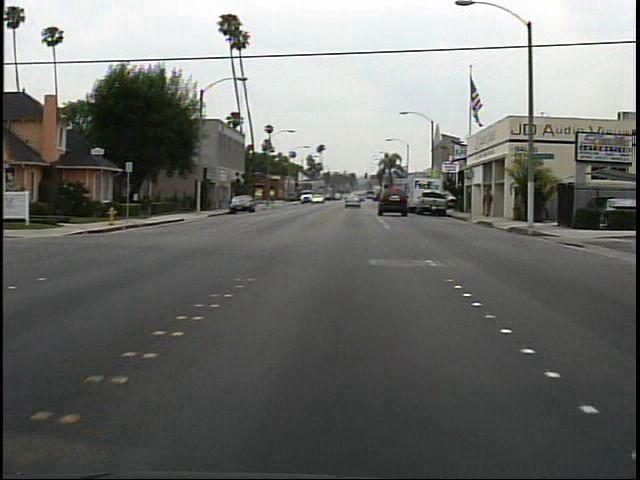person: (479, 186, 498, 220)
